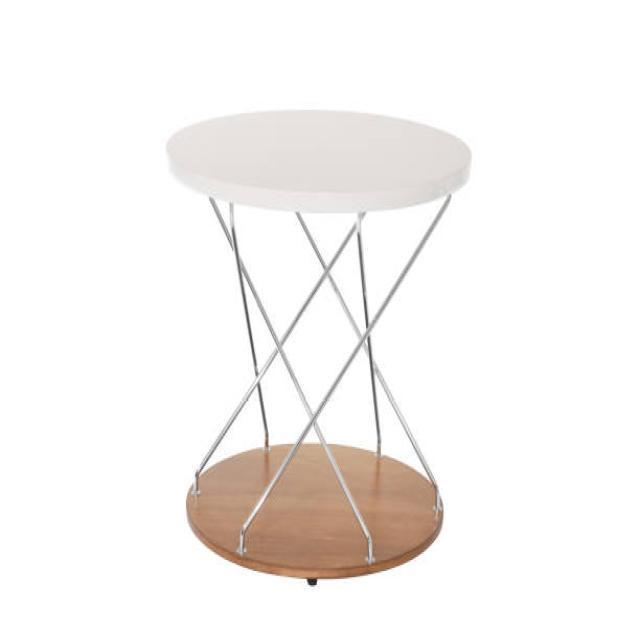table: (164, 107, 472, 586)
